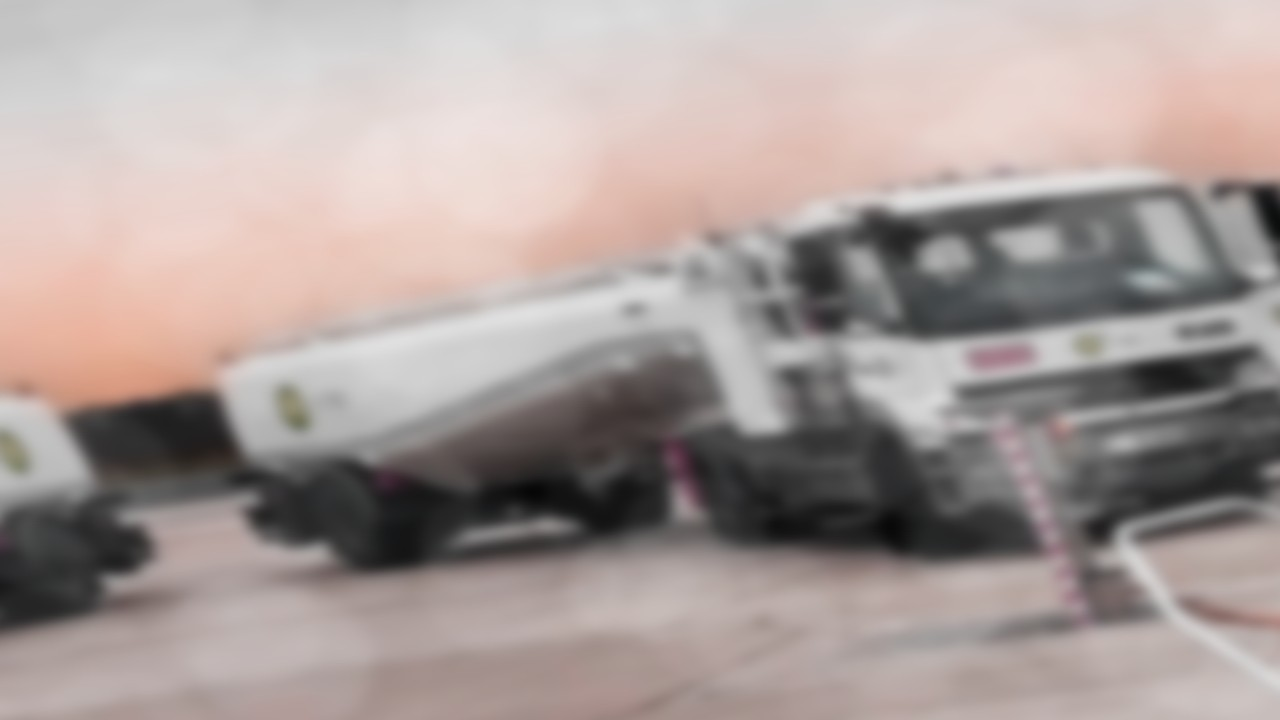wheel: (849, 421, 1017, 568), (296, 459, 455, 582), (672, 431, 796, 551), (0, 511, 117, 633), (539, 453, 692, 541), (1137, 459, 1280, 533)
